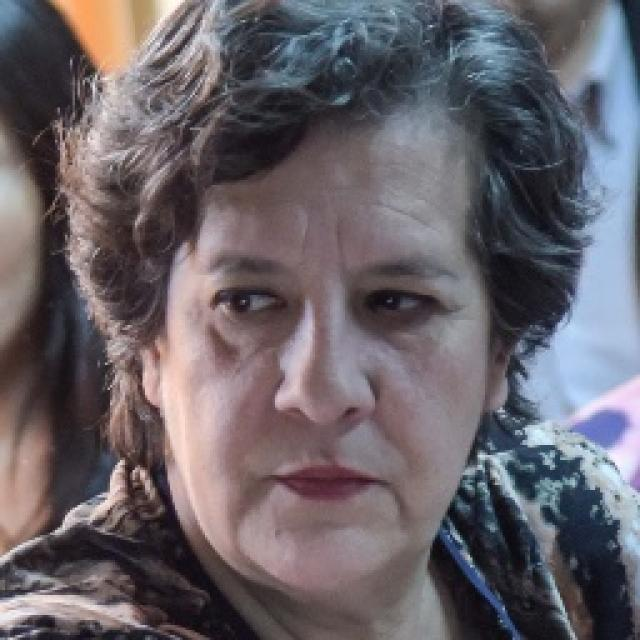earlobe: (485, 372, 509, 412), (142, 367, 160, 409)
eye: (211, 284, 285, 314), (368, 290, 430, 314)
nose: (276, 407, 372, 454)
wholeear: (484, 322, 520, 412), (135, 320, 162, 409)
